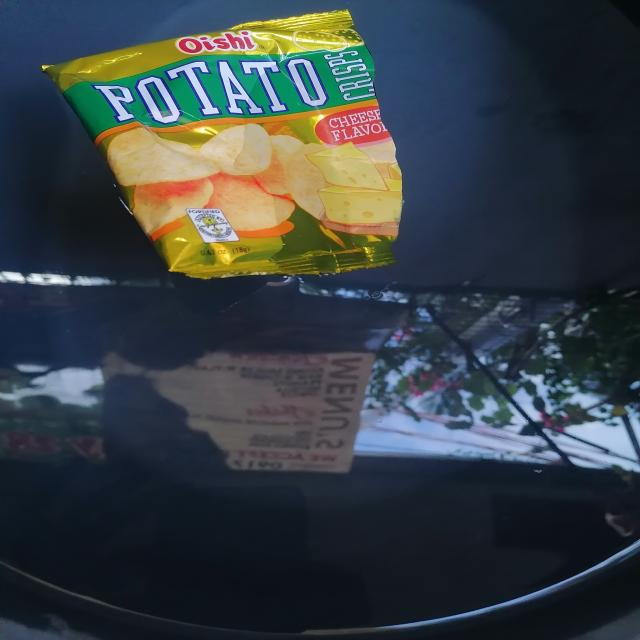Plastic Wrapper: (42, 10, 403, 279)
